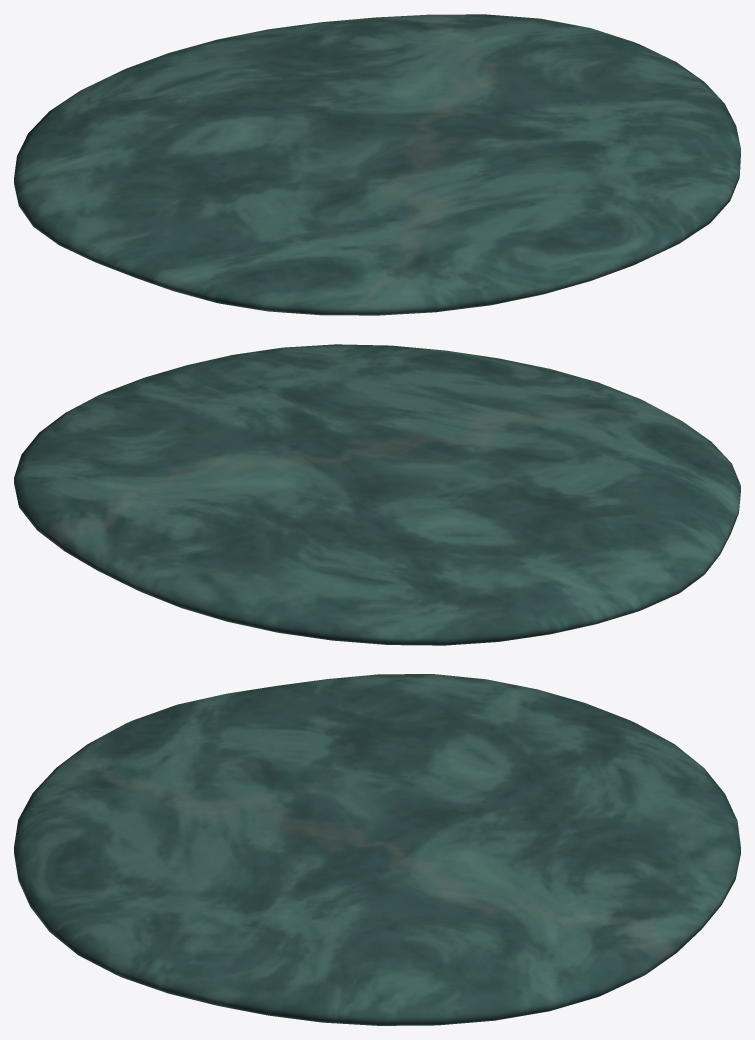
The model's file is jade_river_flat_05.glb.
The picture shows the model from 3 angles, top to bottom: view 1: azimuth 30°, elevation 25°; view 2: azimuth 150°, elevation 25°; view 3: azimuth 270°, elevation 25°; orthographic projection. The views are drawn at different scales.
Visible parts, largest first — view 1: jade_river_flat_05; view 2: jade_river_flat_05; view 3: jade_river_flat_05.
Part boxes in pixels (x1,y1,x2,y2): jade_river_flat_05: [14, 14, 740, 315]; jade_river_flat_05: [14, 344, 740, 645]; jade_river_flat_05: [14, 674, 740, 1025].
Bounding box in the file's own units: 0.0856 × 0.00684 × 0.0768.
Materials: 1 (1 with a texture image).
